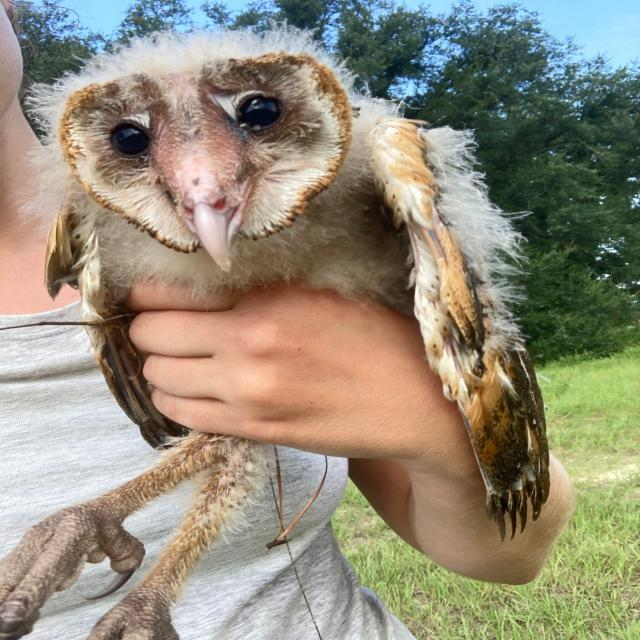Owl: (35, 24, 567, 536)
